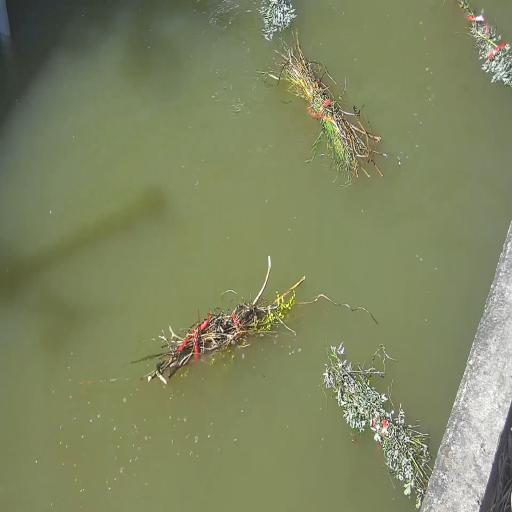twig: (132, 256, 305, 384), (323, 342, 431, 508), (272, 38, 381, 182), (458, 0, 512, 87), (265, 0, 296, 34)
